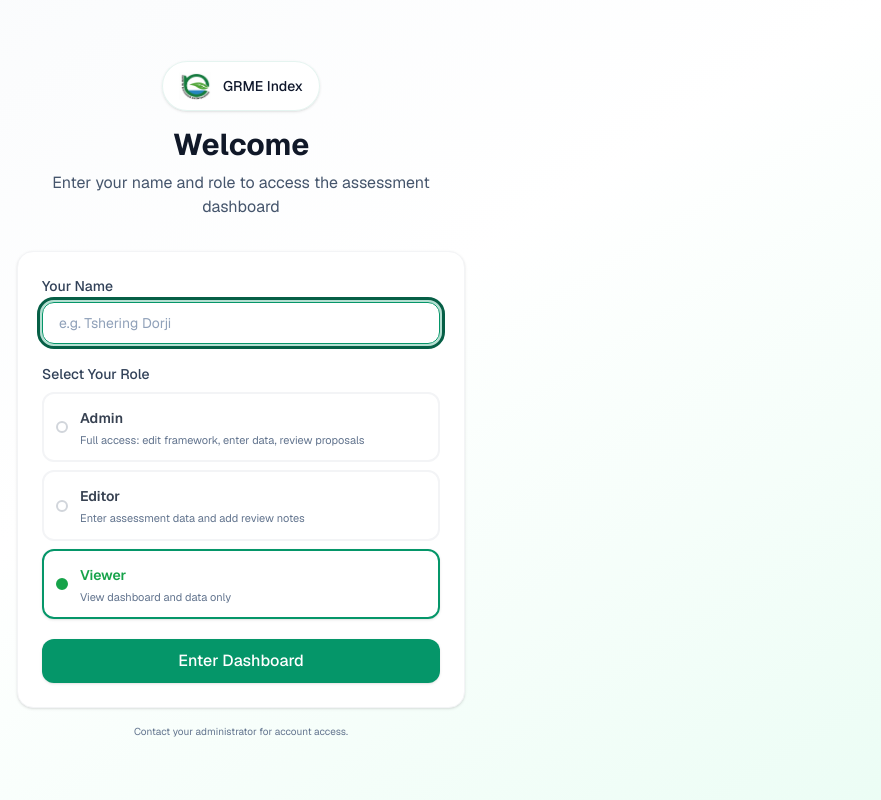
Test: LoginScreen › clears password error when password is entered
In the field with placeholder "e.g. Tshering Dorji": point(241, 323) [42,302,440,344], type "Admin"
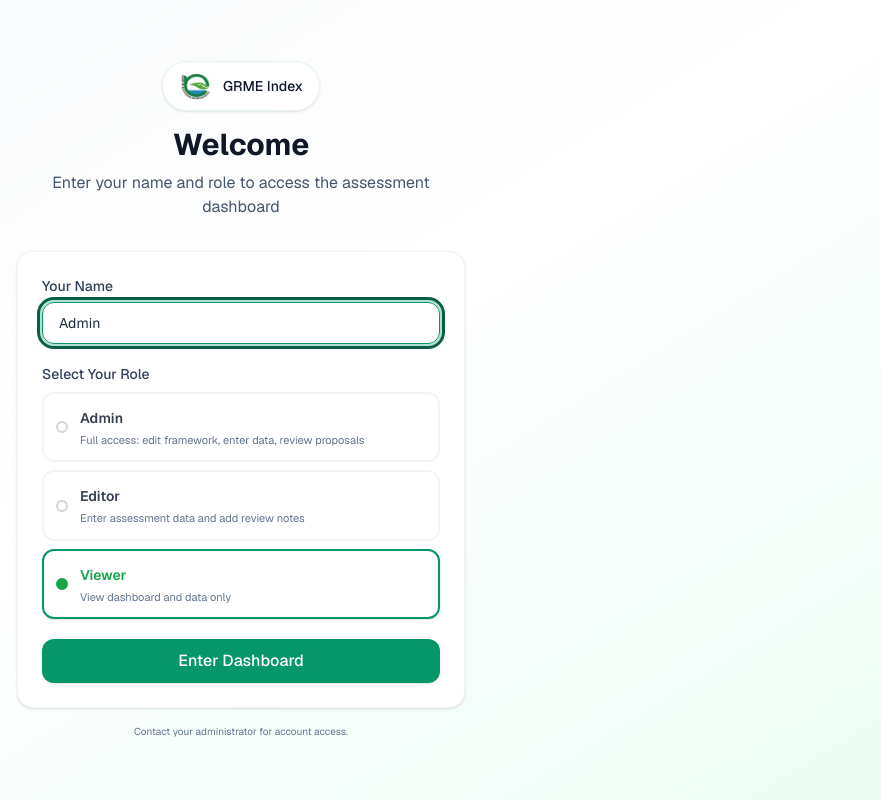
Click the radio button labelled "Admin": point(102, 418) [42,392,440,462]
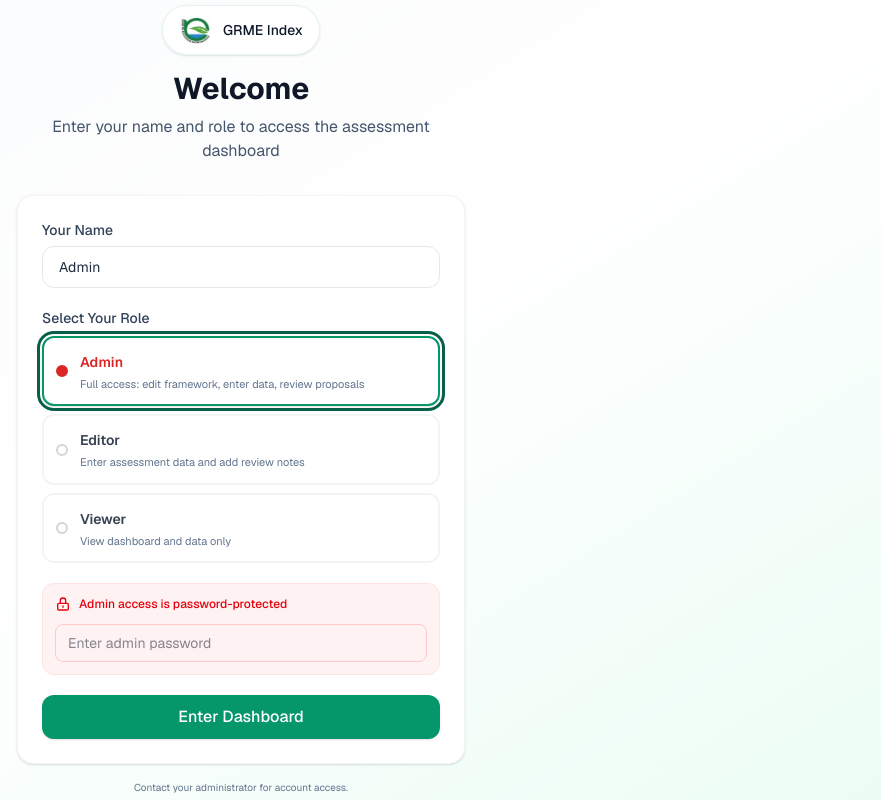
Click the button "Enter Dashboard": point(241, 717) [42,695,440,739]
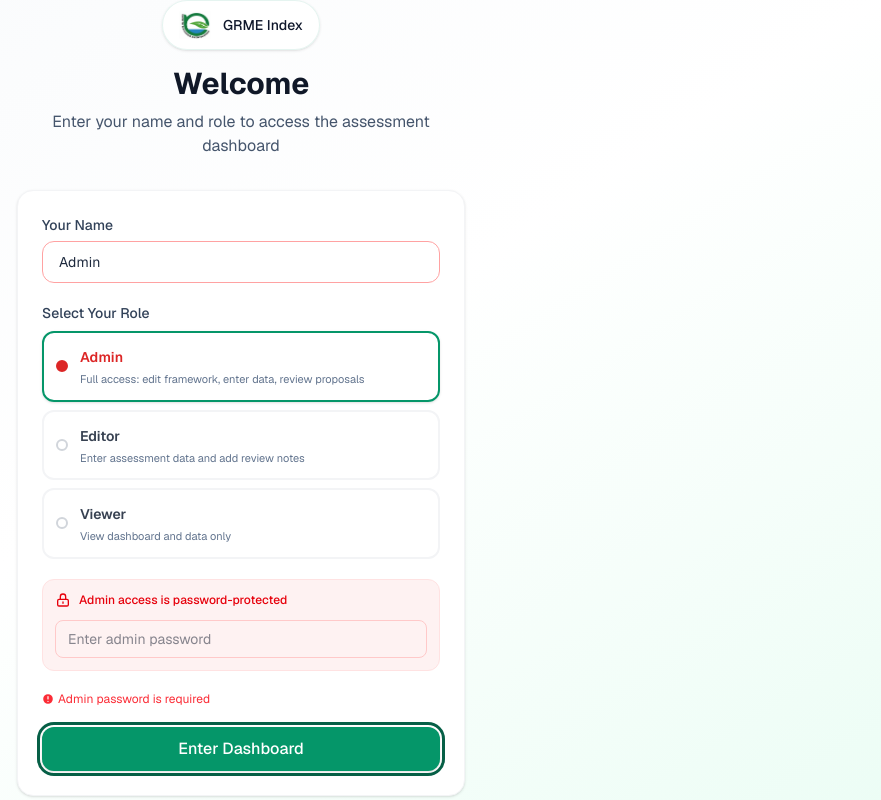
Check: the text "Admin password is required" is shown, box [42,690,210,706]
In the password field with placeholder "Enter admin password": point(241, 638) [55,620,427,658], type "x"
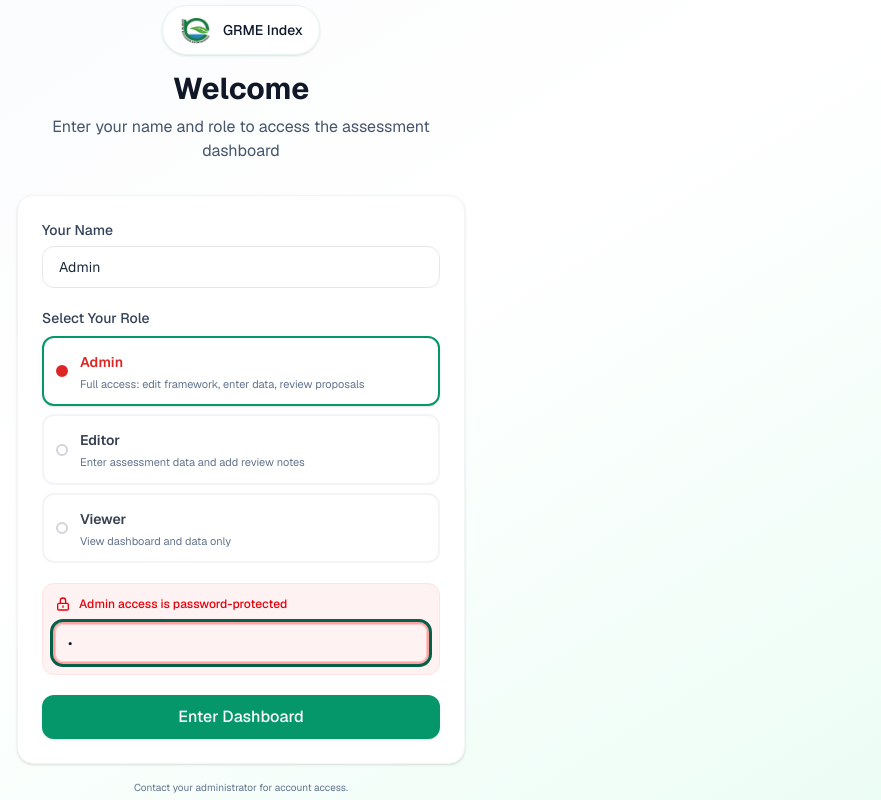
Check: the text "Admin password is required" is gone
